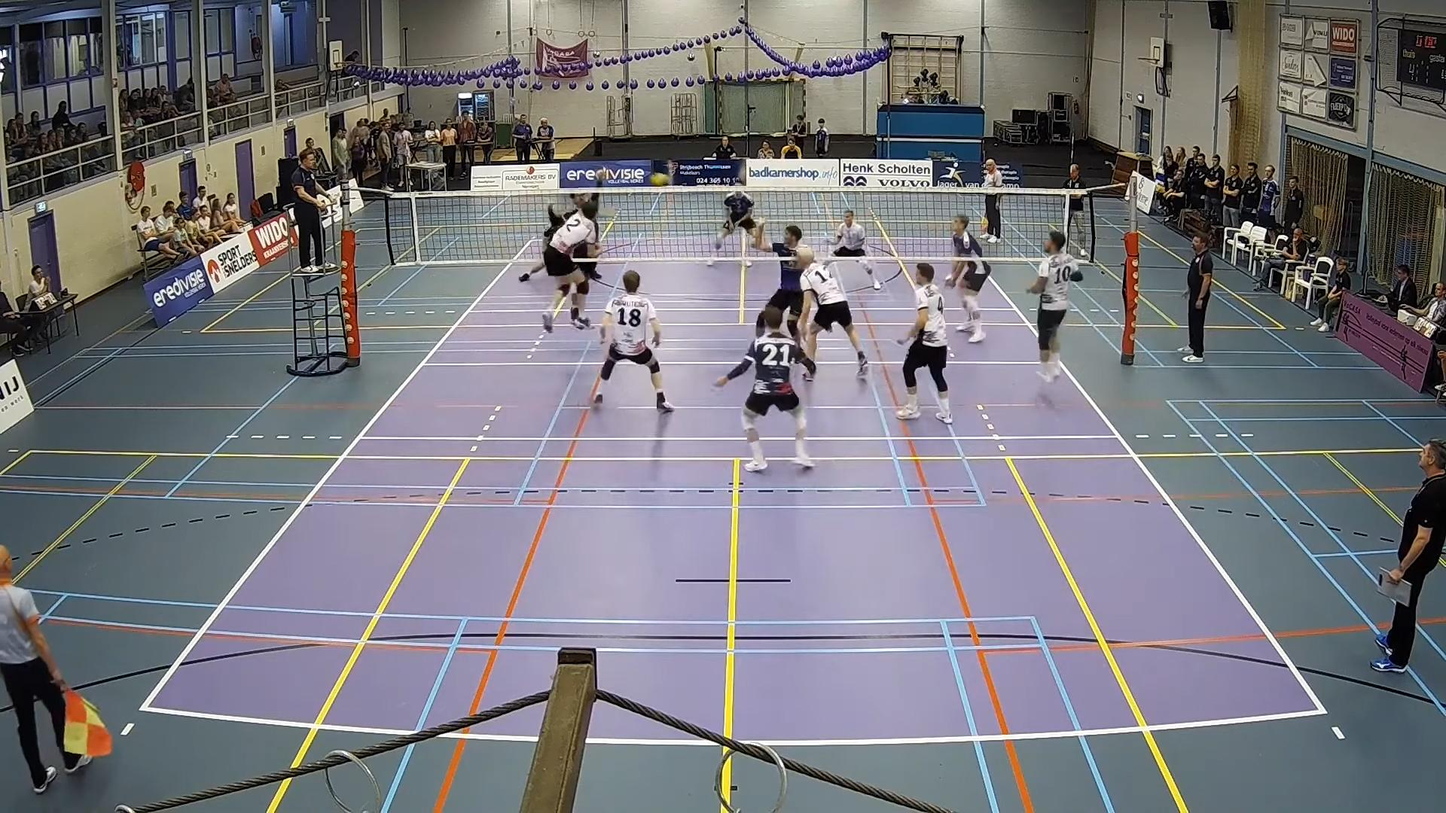Attack: (532, 190, 608, 333)
Player: (715, 306, 815, 471), (593, 270, 673, 412), (795, 247, 868, 377), (896, 263, 951, 423), (1029, 230, 1082, 382), (753, 219, 803, 339), (946, 215, 990, 343), (832, 210, 881, 290), (714, 190, 759, 251)
ball: (650, 174, 670, 186)
